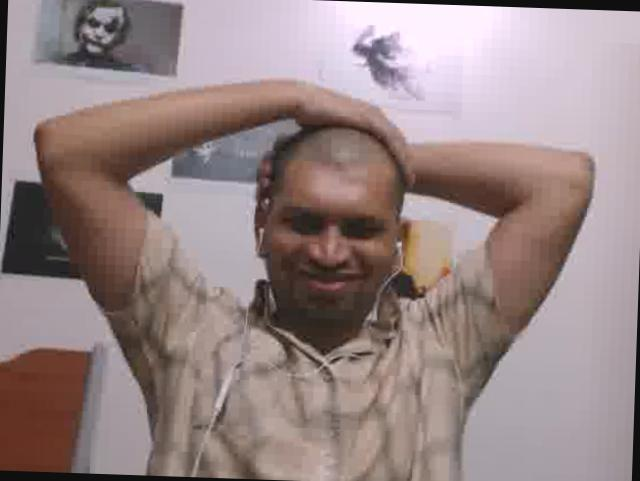bingung: (269, 158, 402, 320)
